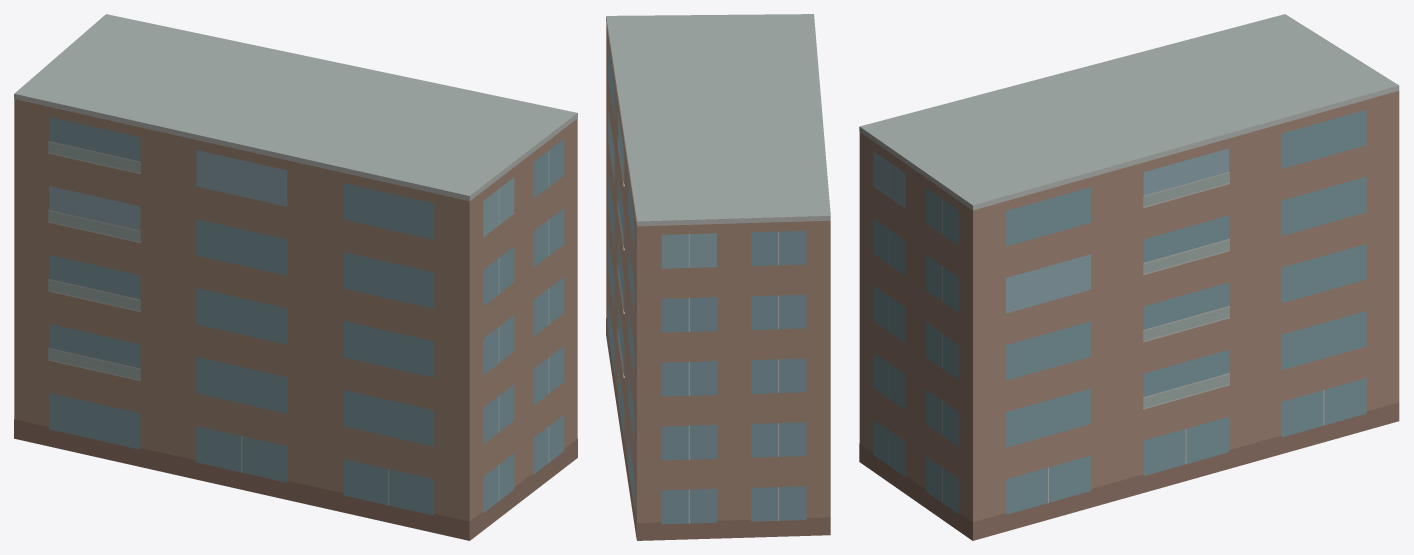
Rendered from survey-upis-32581454.glb.
3 renders of one model, left to right at view 1: azimuth 30°, elevation 25°; view 2: azimuth 150°, elevation 25°; view 3: azimuth 270°, elevation 25°, orthographic. The views are drawn at different scales.
Parts seen in each view (by area): view 1: survey-upis-32581454.tmp; view 2: survey-upis-32581454.tmp; view 3: survey-upis-32581454.tmp.
Boxes of the visible parts, left/top/right/bottom form: survey-upis-32581454.tmp: left=14, top=14, right=577, bottom=540; survey-upis-32581454.tmp: left=606, top=14, right=830, bottom=540; survey-upis-32581454.tmp: left=859, top=14, right=1399, bottom=540.
Bounding box in the file's own units: 19.58 × 16 × 23.34.
